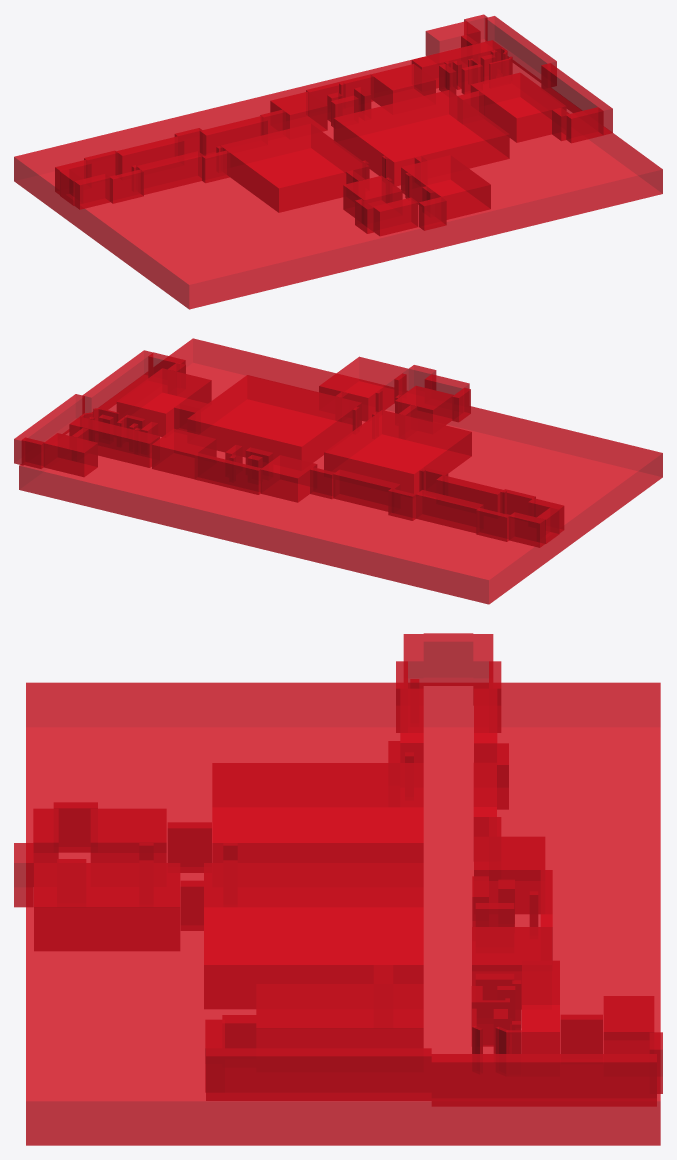
Rendered from school_bblock.hitboxes.glb.
3 renders of one model, top to bottom at view 1: azimuth 30°, elevation 25°; view 2: azimuth 150°, elevation 25°; view 3: azimuth 270°, elevation 25°, orthographic. The views are drawn at different scales.
Visible parts, largest first — view 1: blower_hitbox.floor, blower_hitbox.007, blower_hitbox.009, blower_hitbox.005, blower_hitbox.041, blower_hitbox.023, blower_hitbox.022, blower_hitbox.001, blower_hitbox.002, blower_hitbox.012, blower_hitbox.018, blower_hitbox.016 (+25 smaller); view 2: blower_hitbox.floor, blower_hitbox.007, blower_hitbox.009, blower_hitbox.005, blower_hitbox.041, blower_hitbox.023, blower_hitbox.022, blower_hitbox.020, blower_hitbox.001, blower_hitbox.002, blower_hitbox.016, blower_hitbox.018 (+23 smaller); view 3: blower_hitbox.floor, blower_hitbox.007, blower_hitbox.009, blower_hitbox.041, blower_hitbox.001, blower_hitbox.002, blower_hitbox.005, blower_hitbox.023, blower_hitbox.044, blower_hitbox.020, blower_hitbox.025, blower_hitbox.022 (+27 smaller).
Boxes of the visible parts, x1,y1,x2,y2 form: blower_hitbox.floor: (14,43,662,309); blower_hitbox.007: (333,90,509,186); blower_hitbox.009: (220,123,369,212); blower_hitbox.005: (470,72,566,142); blower_hitbox.041: (401,155,490,219); blower_hitbox.023: (411,40,502,91); blower_hitbox.022: (371,64,435,114); blower_hitbox.001: (485,16,556,87); blower_hitbox.002: (541,63,612,134); blower_hitbox.012: (137,151,203,194); blower_hitbox.018: (200,116,267,159); blower_hitbox.016: (116,136,184,179); blower_hitbox.floor: (19,338,662,604); blower_hitbox.007: (187,375,361,470); blower_hitbox.009: (324,410,471,497); blower_hitbox.005: (116,368,211,437); blower_hitbox.041: (319,356,408,421); blower_hitbox.023: (69,416,159,467); blower_hitbox.022: (152,428,216,479); blower_hitbox.020: (260,455,317,502); blower_hitbox.001: (14,394,84,465); blower_hitbox.002: (82,350,152,416); blower_hitbox.016: (416,490,483,533); blower_hitbox.018: (333,469,400,512); blower_hitbox.floor: (26,682,660,1145); blower_hitbox.007: (204,863,423,1009); blower_hitbox.009: (212,763,423,886); blower_hitbox.041: (34,863,180,951); blower_hitbox.001: (431,1054,656,1106); blower_hitbox.002: (206,1048,431,1100); blower_hitbox.005: (256,984,423,1071); blower_hitbox.023: (522,960,559,1075); blower_hitbox.044: (90,808,166,886); blower_hitbox.020: (474,836,545,914); blower_hitbox.025: (603,996,654,1075); blower_hitbox.022: (472,927,551,1009).
Size of the model in its own units: 66.67 by 6.76 by 42.62.
